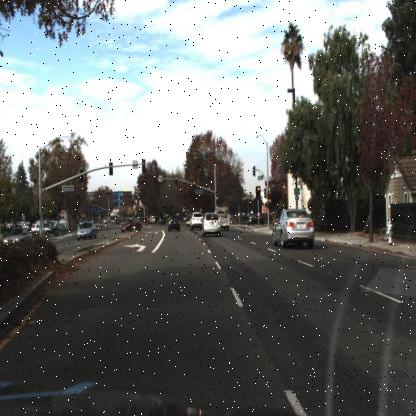car: (272, 207, 316, 253), (200, 211, 221, 240), (213, 201, 233, 230), (116, 216, 142, 236), (75, 220, 99, 241), (30, 221, 52, 242), (185, 209, 201, 235), (245, 210, 264, 228), (166, 214, 180, 232)
trafficLight: (215, 193, 222, 207)
trafficLight-Red: (254, 182, 262, 203), (173, 172, 179, 188), (192, 178, 197, 191)
trafficLight-RedLeft: (153, 172, 158, 186)
